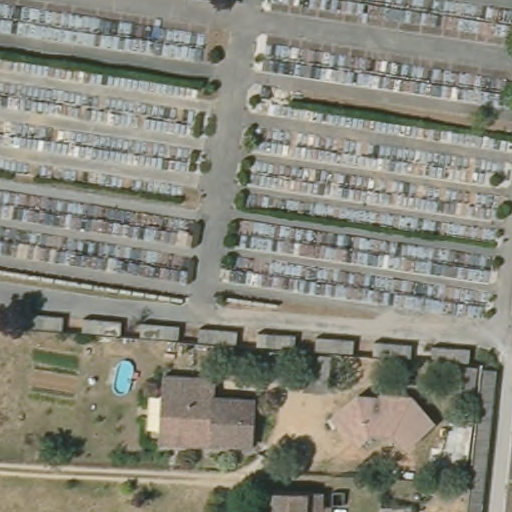pool: (106, 352, 142, 398)
